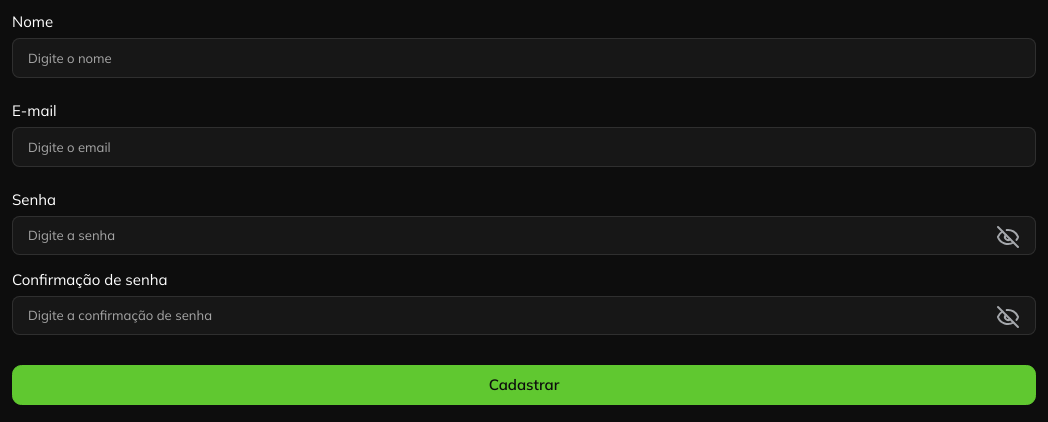
Register Form › Interactions › should disable button while submitting
In the field with placeholder "Digite o nome": (524, 58) [12, 38, 1036, 78], type "test"
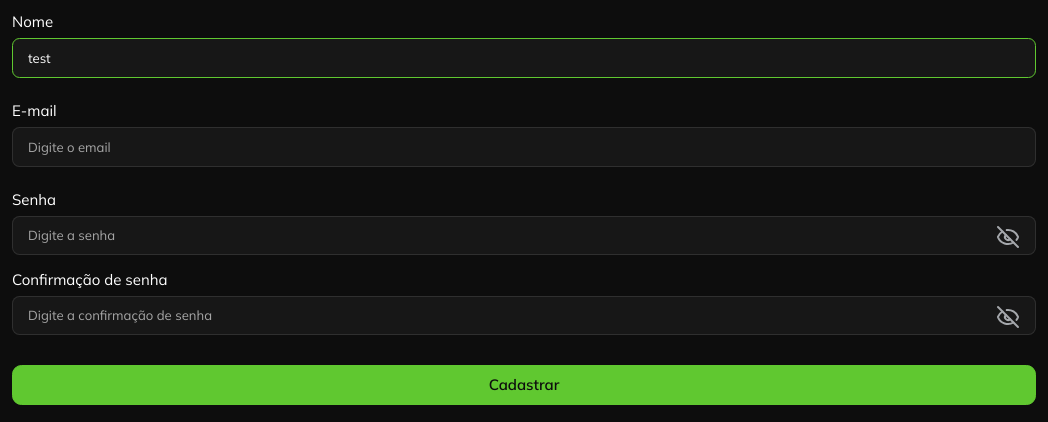
In the field with placeholder "Digite o email": (524, 147) [12, 127, 1036, 167], type "test@email.com"
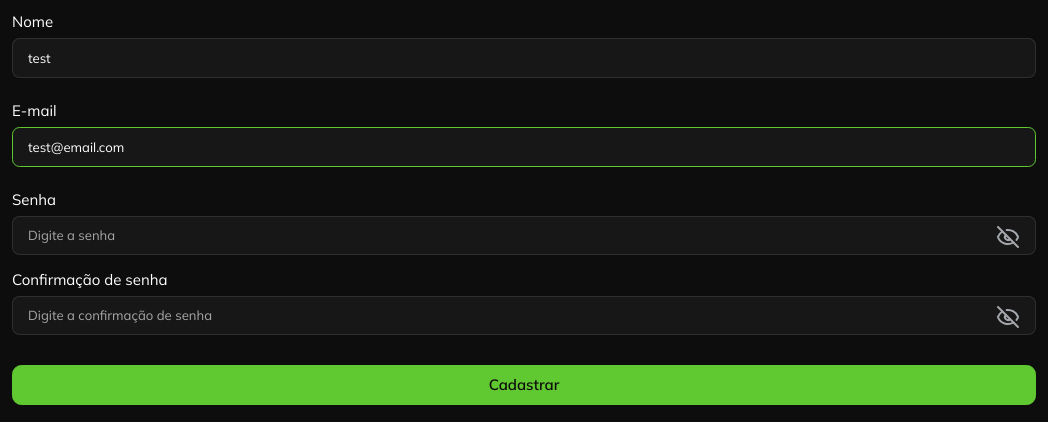
In the password field with placeholder "Digite a senha": (504, 235) [13, 217, 996, 254], type "123456"
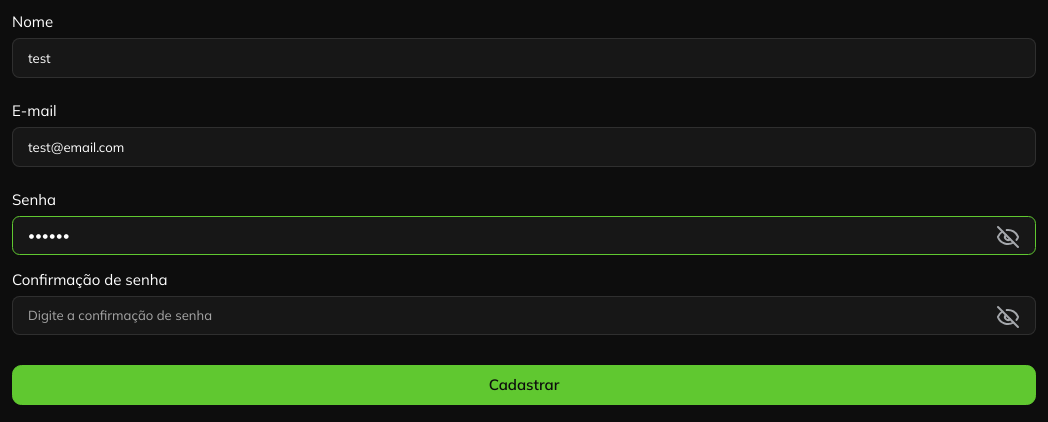
In the password field with placeholder "Digite a confirmação de senha": (504, 315) [13, 297, 996, 334], type "123456"
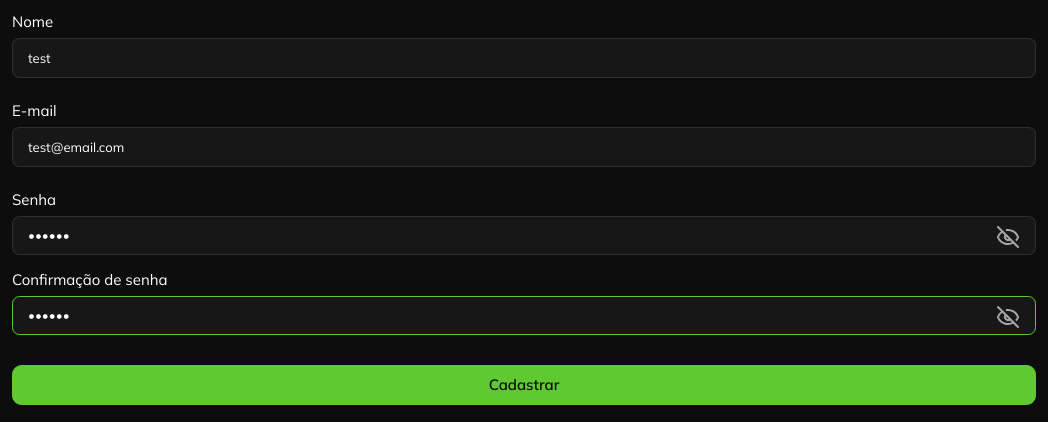
Click the button "Cadastrar": (524, 385) [12, 365, 1036, 405]
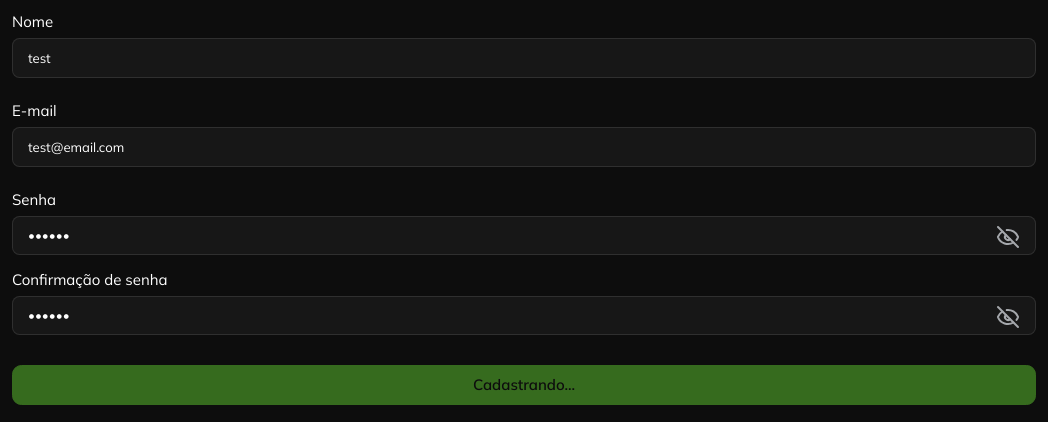
Now the button named "cadastrar" is disabled, box [12, 365, 1036, 405]
